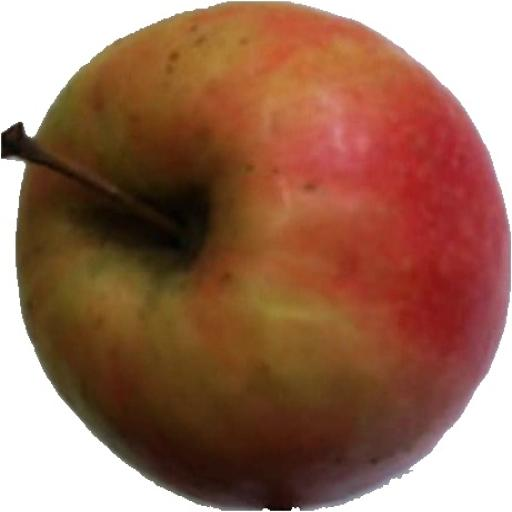apple-ripe: (0, 0, 508, 512)
